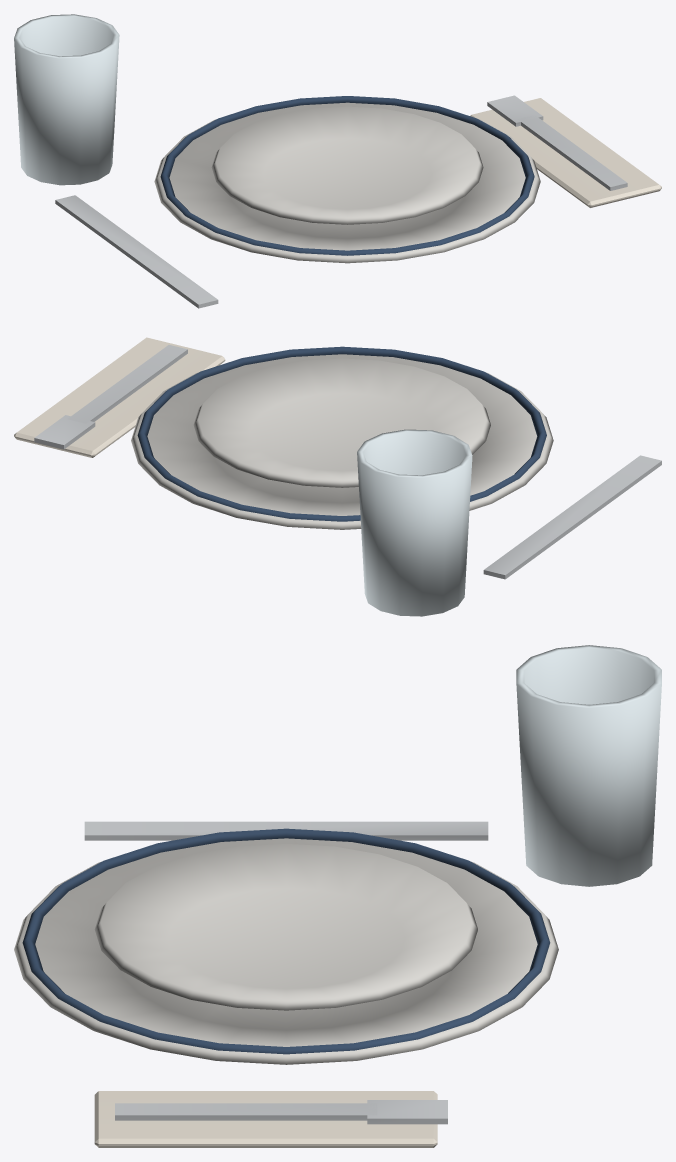
The model's file is plateSet.glb.
3 renders of one model, top to bottom at view 1: azimuth 30°, elevation 25°; view 2: azimuth 150°, elevation 25°; view 3: azimuth 270°, elevation 25°, orthographic. The views are drawn at different scales.
Parts seen in each view (by area): view 1: plateSet; view 2: plateSet; view 3: plateSet.
Part boxes in pixels (x1=…): plateSet: x1=14, y1=14, x2=661, y2=308; plateSet: x1=14, y1=337, x2=661, y2=616; plateSet: x1=14, y1=645, x2=661, y2=1147.
Size of the model in its own units: 0.378 by 0.1 by 0.3211.
